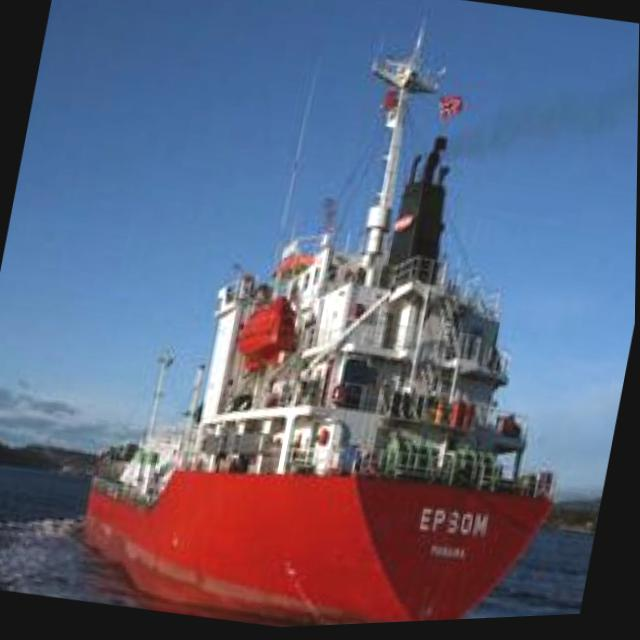ship2: (84, 19, 558, 630)
